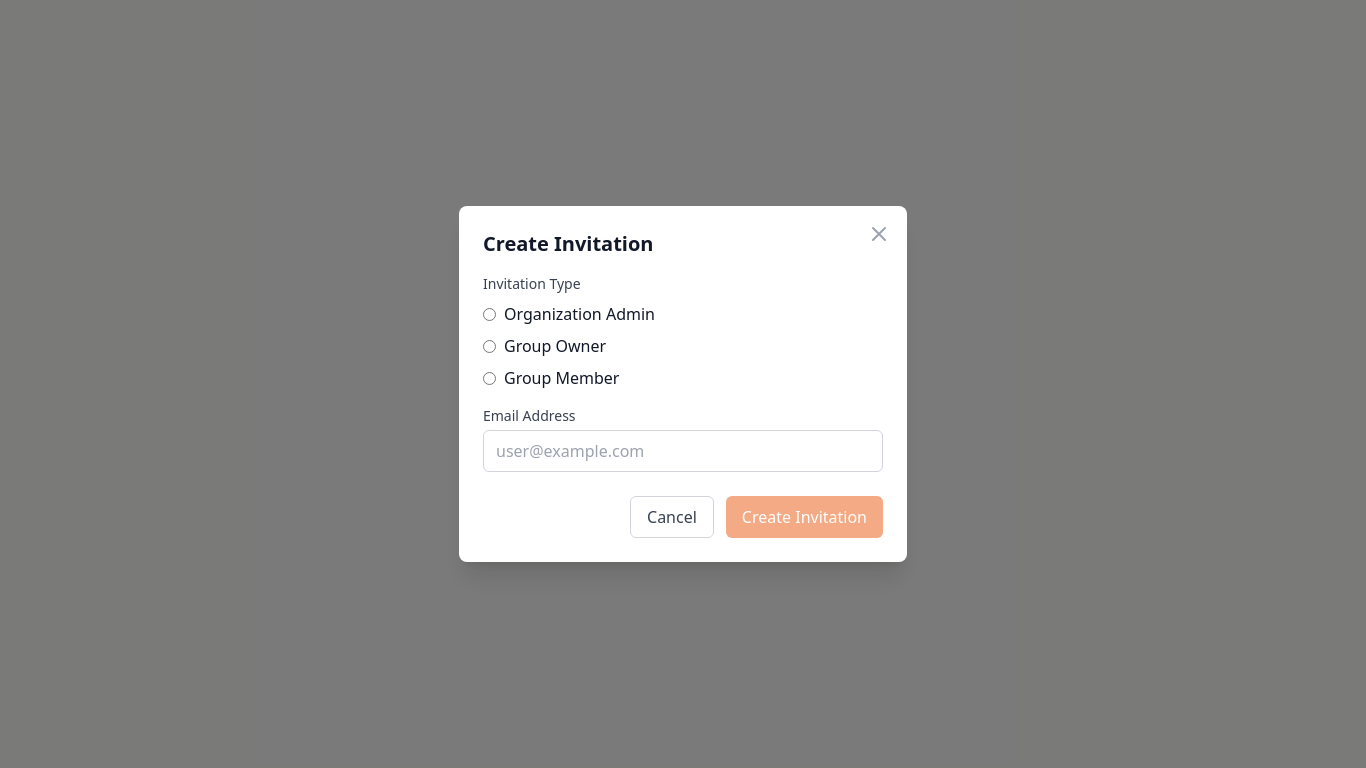
Test: CreateInvitationModal › Site Admin View › should show organization selector when org admin is selected
This screenshot has width=1366, height=768.
Click the radio button labelled "Organization Admin": (490, 314) [483,308,496,320]
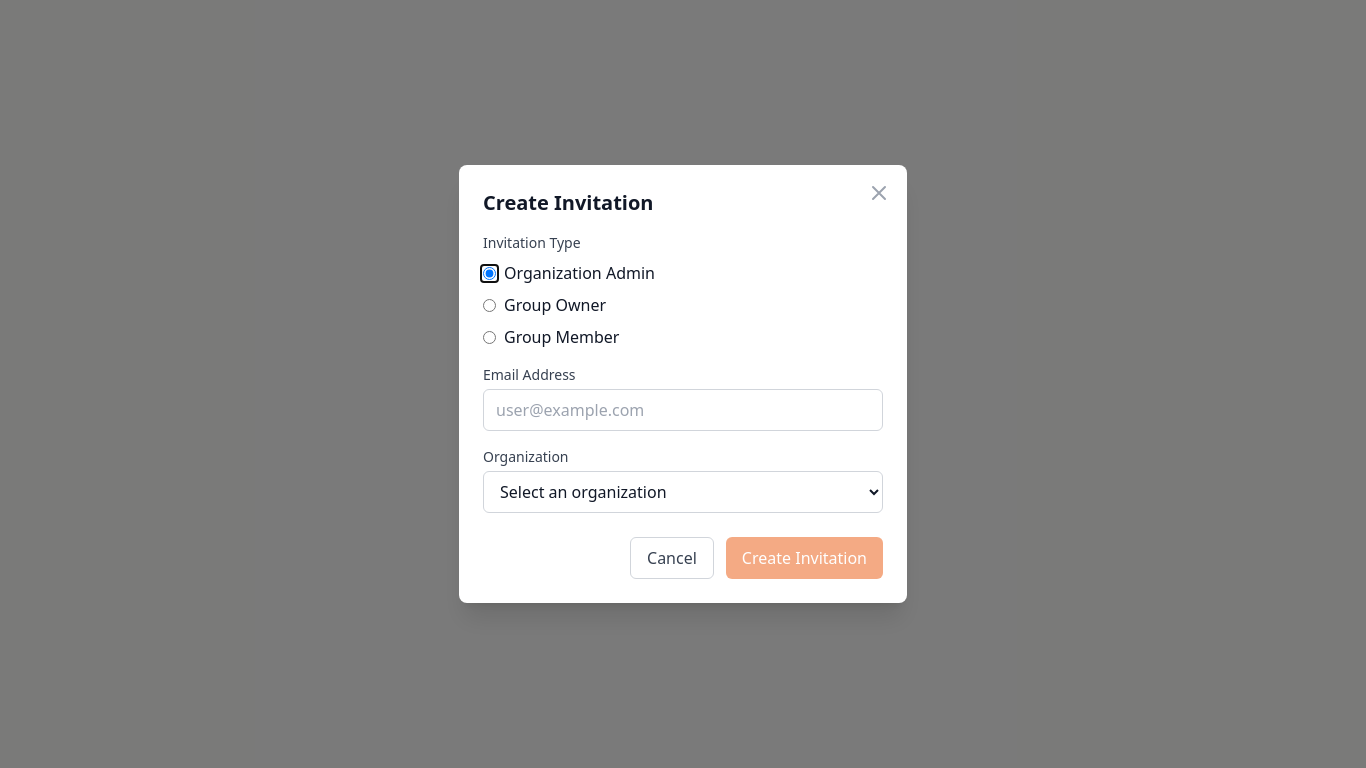
expect the dropdown labelled "Organization" is shown: met, box [483,471,883,513]
